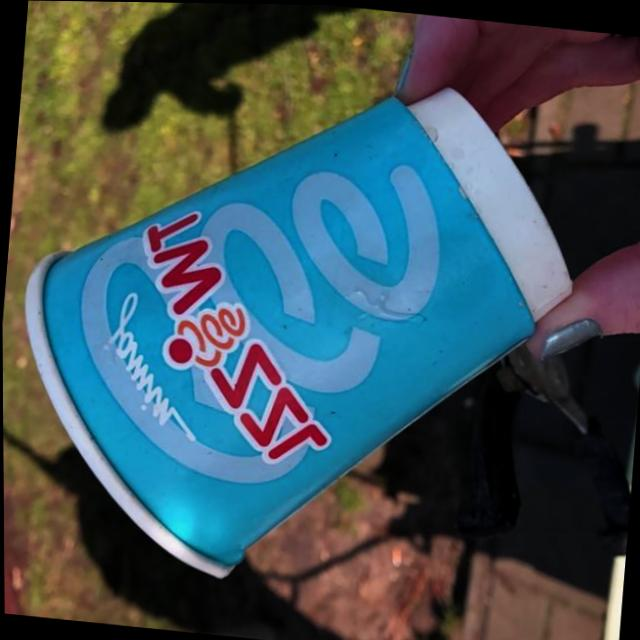Paper: (0, 39, 598, 611)
